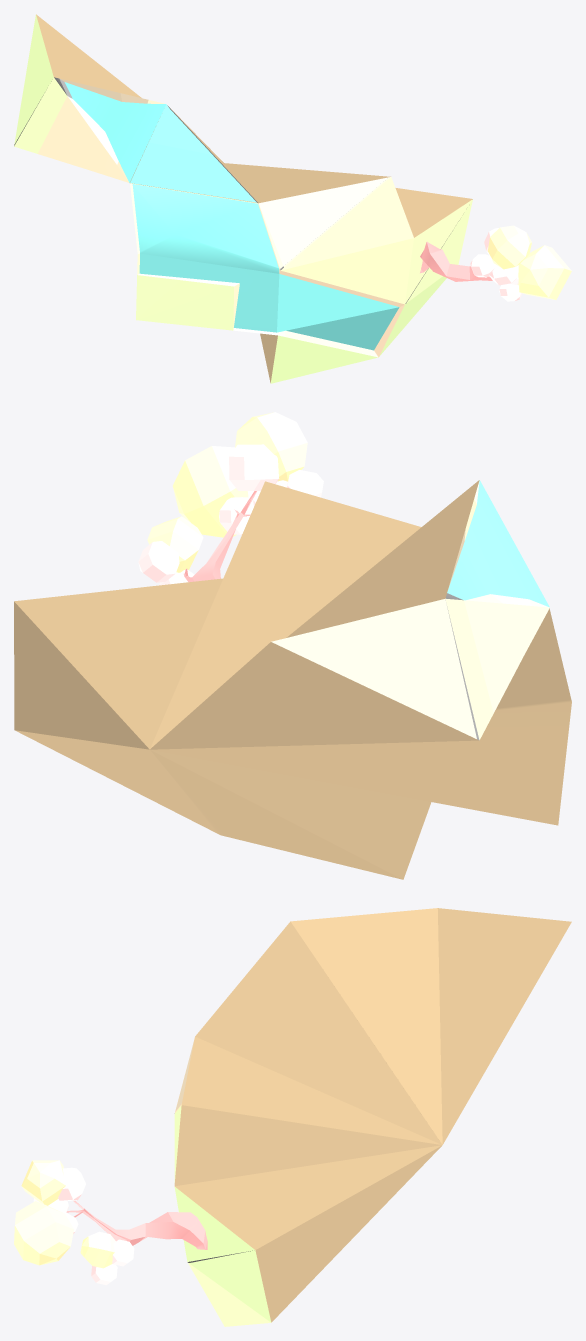
File: chunk10.fbx
3 views of the same model, one above another, from view 1: azimuth 30°, elevation 25°; view 2: azimuth 150°, elevation 25°; view 3: azimuth 270°, elevation 25° (orthographic). The views are drawn at different scales.
Visible parts, largest first — view 1: chunk10; view 2: chunk10; view 3: chunk10.
Part boxes in pixels (x1,y1,x2,y2): chunk10: (14,14,571,383); chunk10: (14,412,571,879); chunk10: (14,908,571,1326).
Size of the model in its own units: 8.49 by 6.11 by 10.08.
